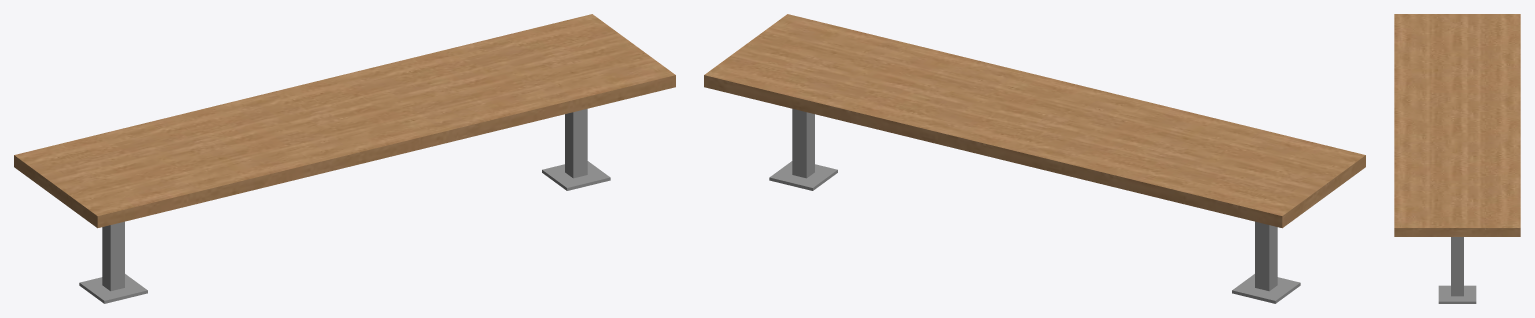
File: bench.glb
The picture shows the model from 3 angles, left to right: view 1: azimuth 30°, elevation 25°; view 2: azimuth 150°, elevation 25°; view 3: azimuth 270°, elevation 25°; orthographic projection. The views are drawn at different scales.
Parts seen in each view (by area): view 1: bench_gym_environment_0; view 2: bench_gym_environment_0; view 3: bench_gym_environment_0.
Boxes of the visible parts, x1=… form: bench_gym_environment_0: x1=14, y1=14, x2=675, y2=303; bench_gym_environment_0: x1=704, y1=14, x2=1365, y2=303; bench_gym_environment_0: x1=1394, y1=14, x2=1520, y2=303.
Size of the model in its own units: 2 by 0.3899 by 0.5001.
1 material, 1 textured.
